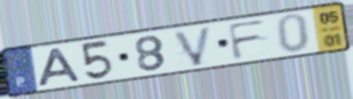0: (275, 12, 314, 55)
5: (80, 38, 115, 82)
8: (133, 35, 169, 73)
A: (36, 46, 84, 89)
F: (225, 17, 270, 62)
V: (171, 24, 215, 68)
